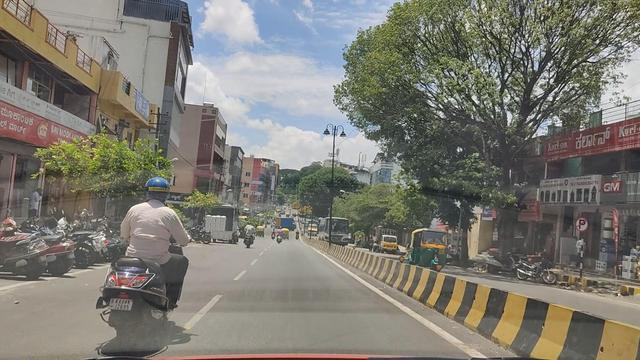LMV: (93, 163, 190, 360)
